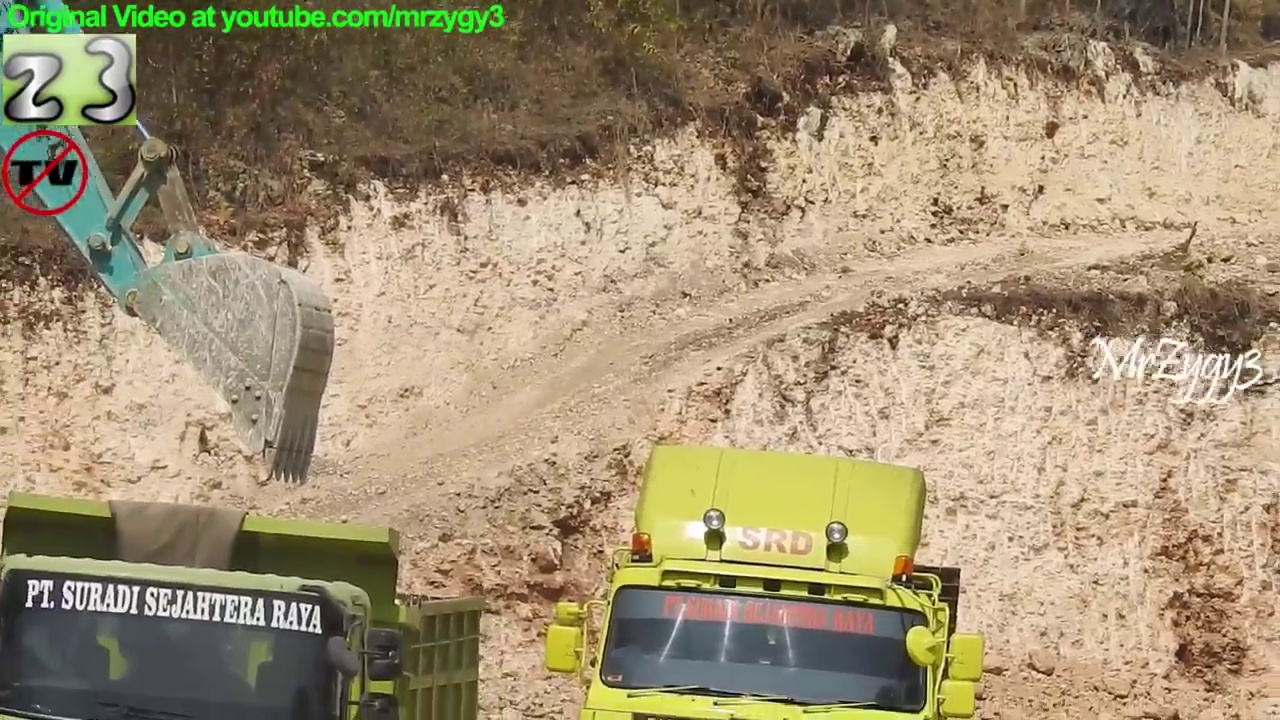excavator: (1, 1, 340, 489)
truck: (541, 437, 989, 720), (1, 485, 492, 720)
